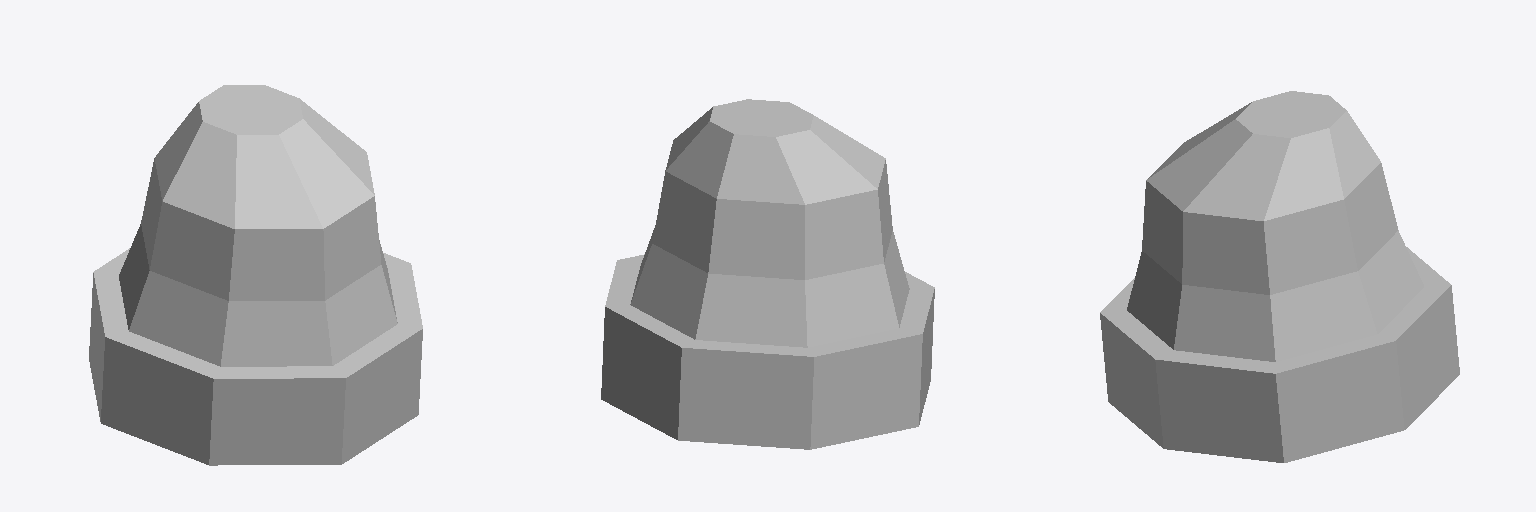
The model's file is beanie.obj.
The picture shows the model from 3 angles: view 1: azimuth 30°, elevation 25°; view 2: azimuth 150°, elevation 25°; view 3: azimuth 270°, elevation 25°; orthographic projection.
Parts seen in each view (by area): view 1: Cube.017_Cube.019, Cube.018_Cube.020; view 2: Cube.017_Cube.019, Cube.018_Cube.020; view 3: Cube.017_Cube.019, Cube.018_Cube.020.
Part boxes in pixels (bbox=[...]): Cube.017_Cube.019: bbox=[119, 85, 397, 366]; Cube.018_Cube.020: bbox=[89, 248, 422, 465]; Cube.017_Cube.019: bbox=[630, 99, 909, 347]; Cube.018_Cube.020: bbox=[601, 254, 934, 449]; Cube.017_Cube.019: bbox=[1127, 91, 1423, 361]; Cube.018_Cube.020: bbox=[1100, 247, 1459, 462].
Bounding box in the file's own units: 0.6667 × 0.6079 × 0.6797.